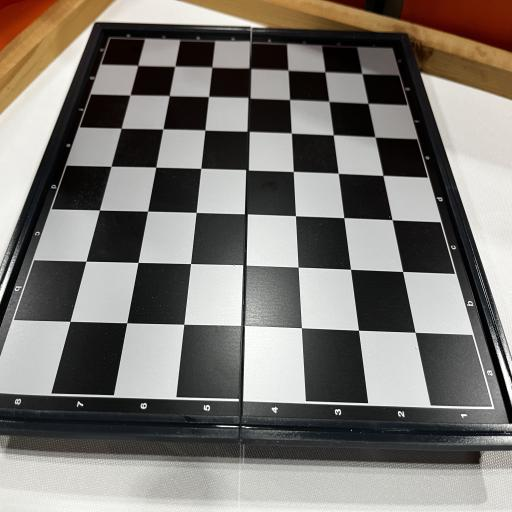Board: (0, 22, 512, 450), (0, 21, 512, 444)
